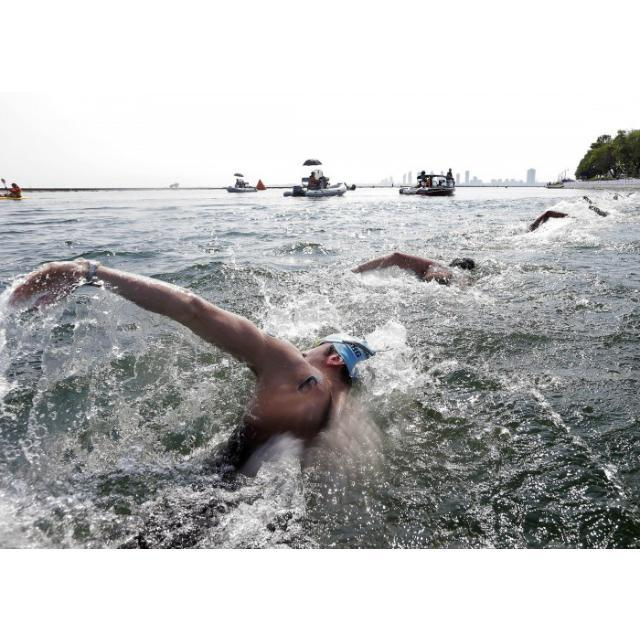human: (1, 249, 374, 477), (354, 251, 482, 293)
